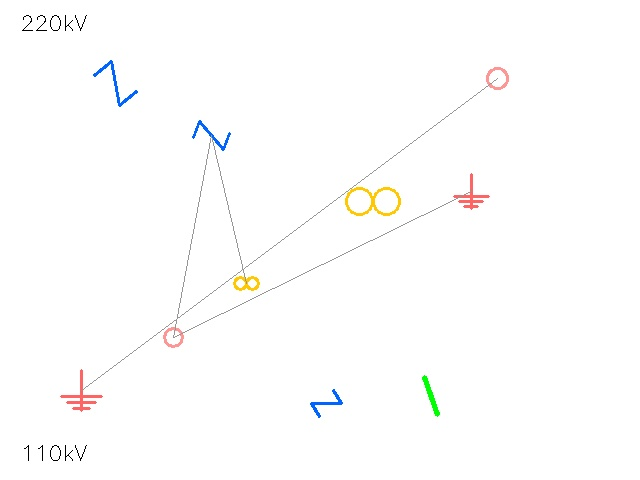busbar: (406, 371, 456, 421)
circuit_breaker: (93, 61, 137, 105), (193, 117, 229, 153), (311, 388, 341, 418)
current_transformer: (477, 58, 517, 98)
ground: (61, 370, 101, 410), (454, 174, 488, 208)
load_break_switch: (155, 319, 191, 355)
transformer_2w: (339, 167, 407, 235), (231, 268, 261, 298)
